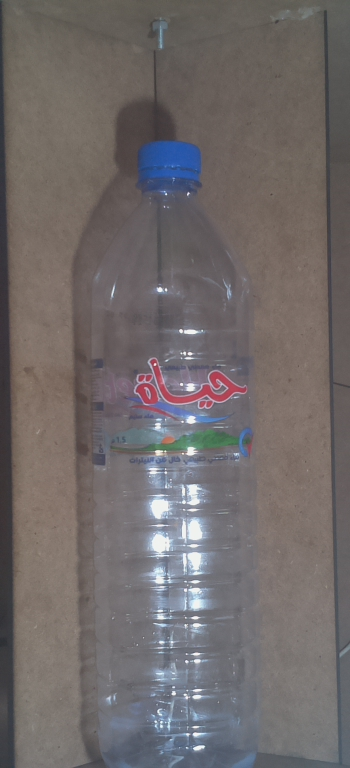Bouteille_1.5L: (81, 133, 273, 768)
